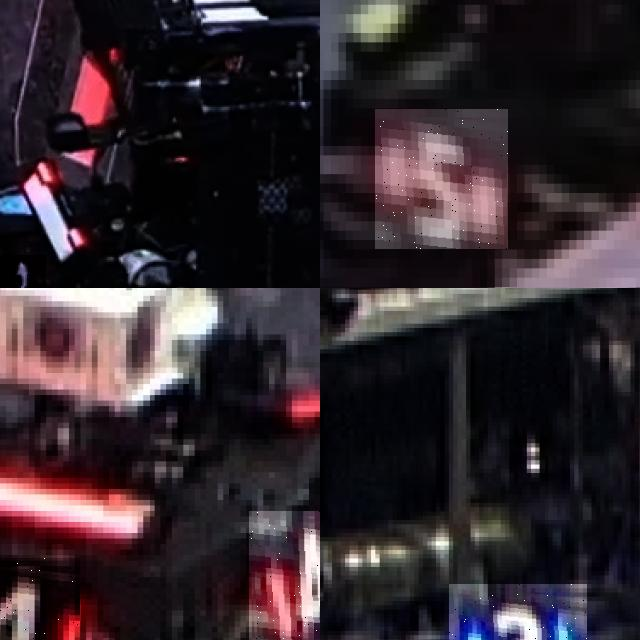B2: (448, 583, 587, 640)
R2: (0, 255, 46, 288)
R4: (248, 511, 320, 640), (0, 558, 80, 640)
R5: (376, 109, 510, 249)
